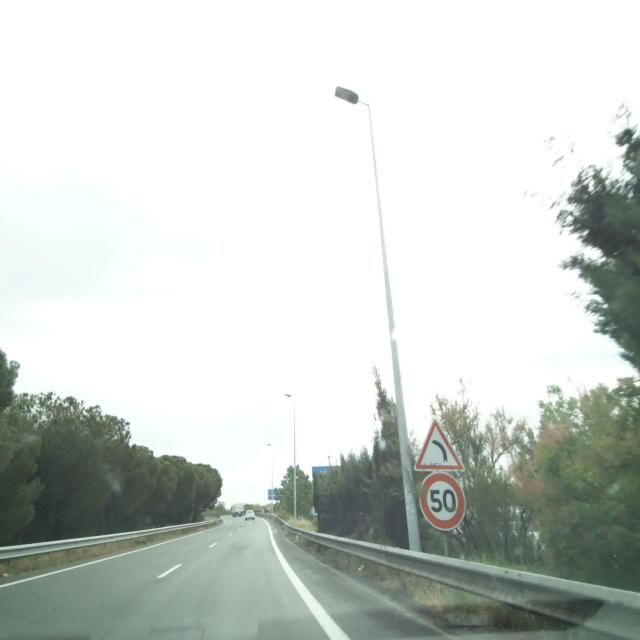car: (244, 509, 256, 521)
